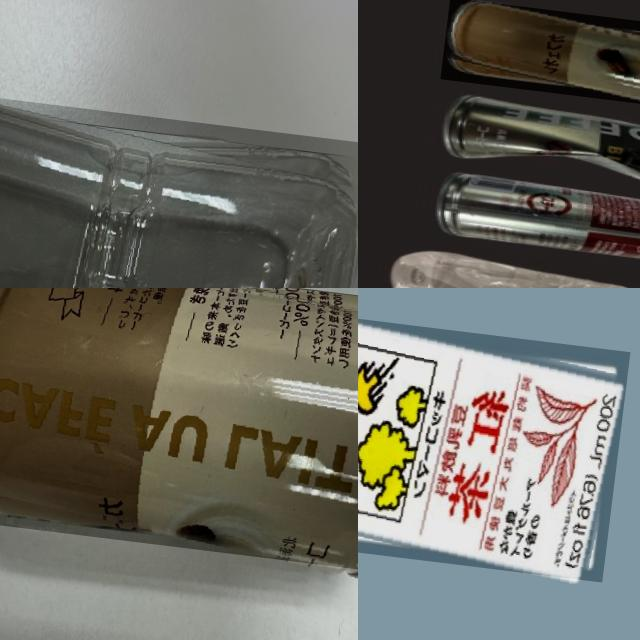Aluminium Foil: (358, 310, 629, 582)
Can: (0, 288, 358, 575), (438, 0, 640, 114), (431, 92, 640, 189), (432, 171, 640, 266)
Transparent Plastic Bottle: (0, 69, 358, 288), (383, 250, 640, 288)
